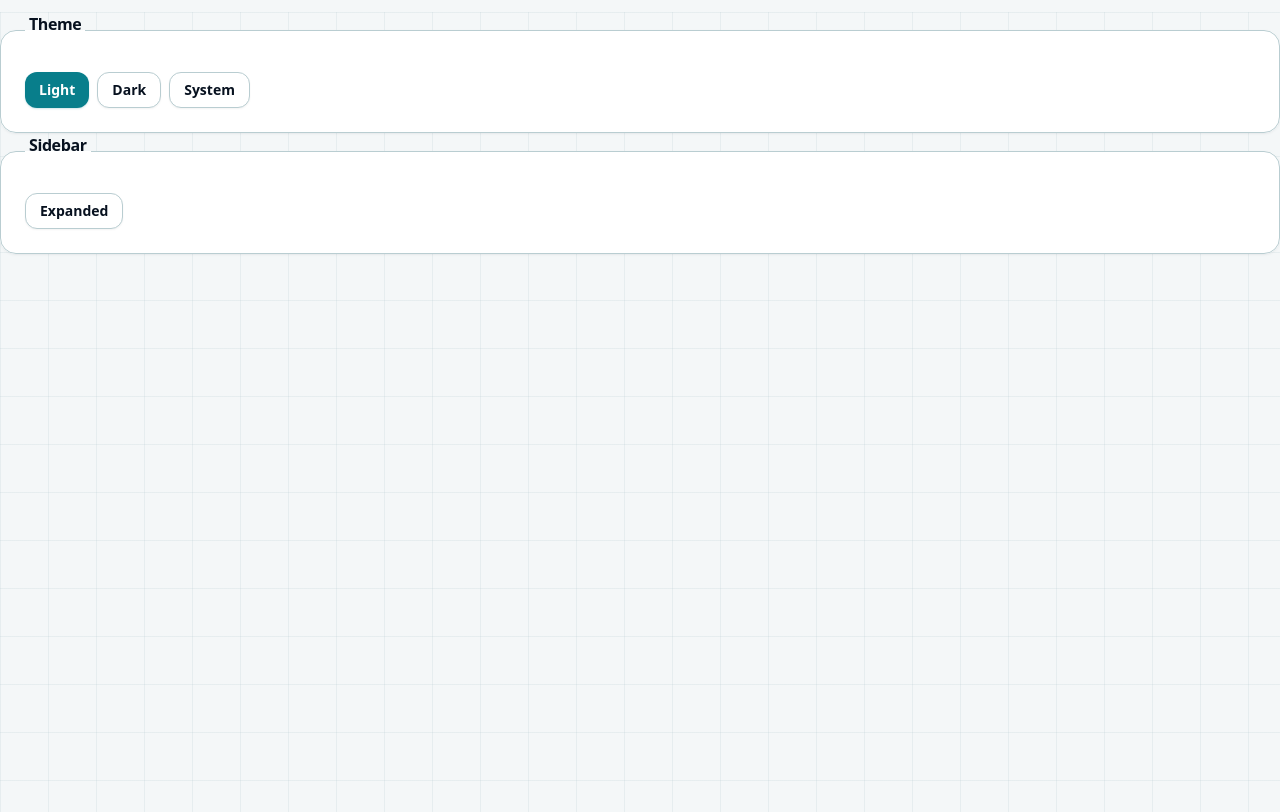
Test: settings flow › toggling the sidebar updates the label
The width and height of the screenshot is (1280, 812).
Step 1. Click the button "Expanded" → (74, 211), box 25,193 -> 124,229
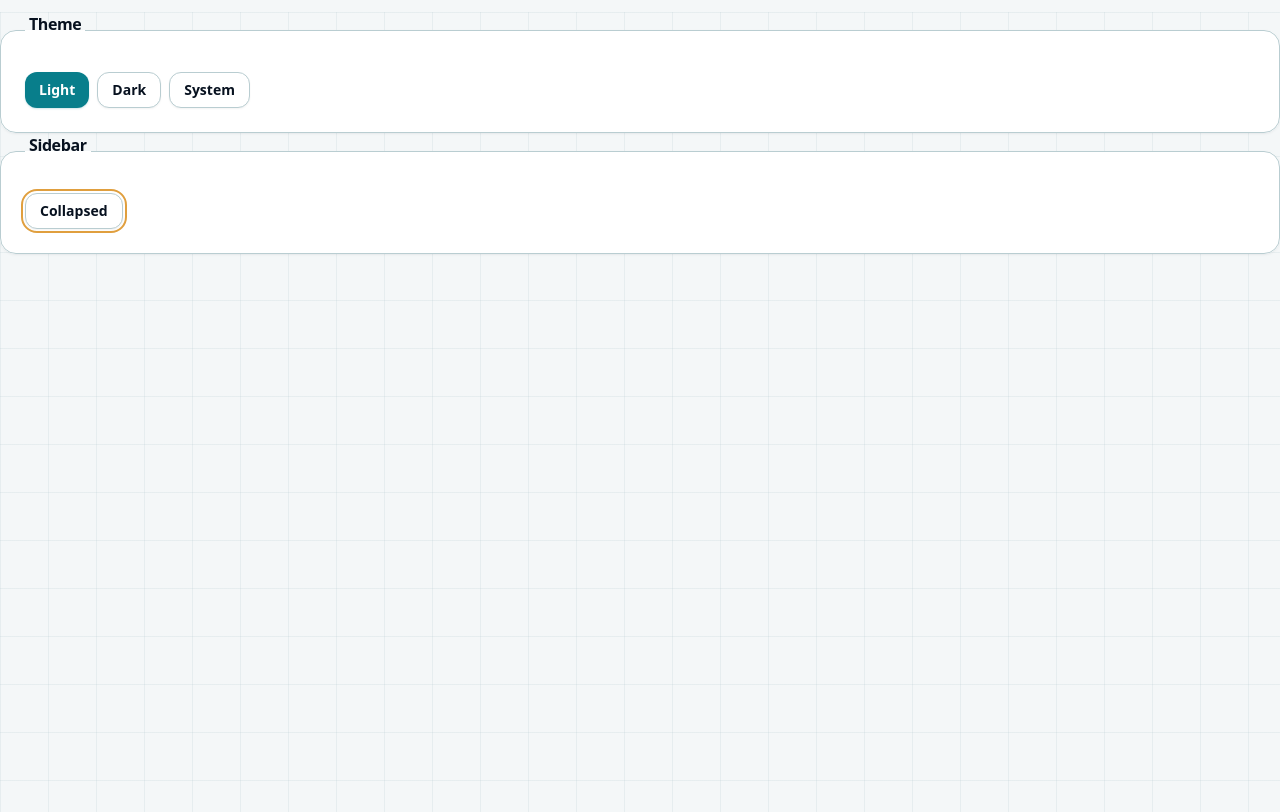
Result: the button "Collapsed" is shown at 25,193 -> 122,229
